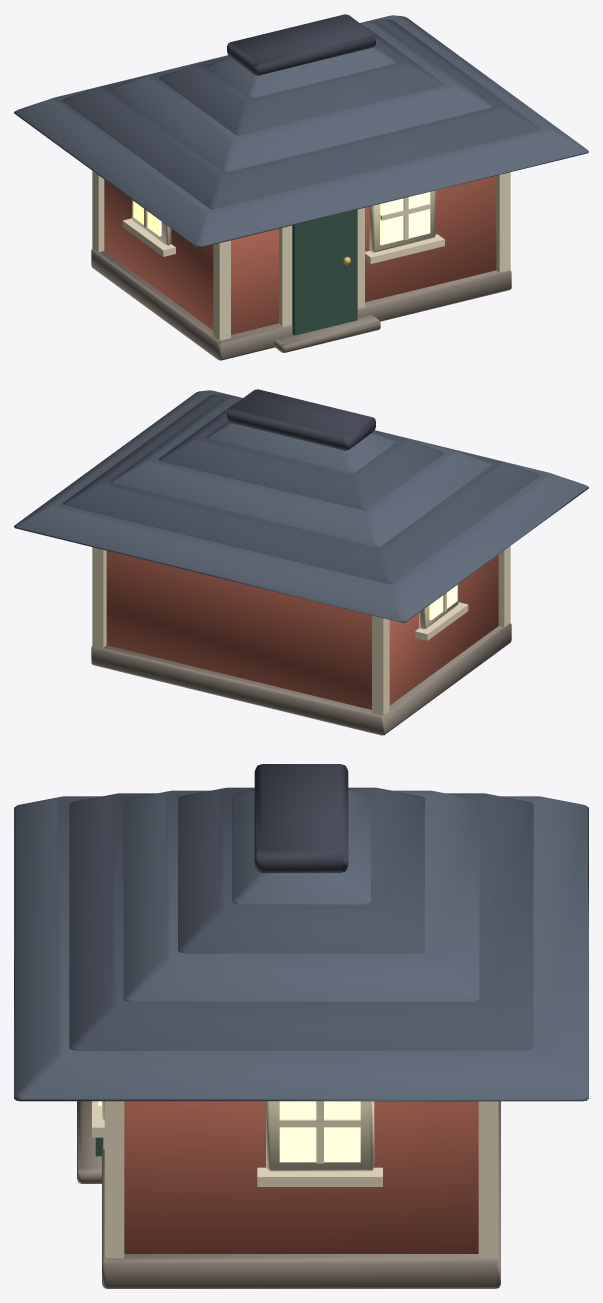
Rendered from v_rowhouse.glb.
The picture shows the model from 3 angles, top to bottom: view 1: azimuth 30°, elevation 25°; view 2: azimuth 150°, elevation 25°; view 3: azimuth 270°, elevation 25°; orthographic projection. The views are drawn at different scales.
Parts seen in each view (by area): view 1: Rowhouse; view 2: Rowhouse; view 3: Rowhouse.
Part boxes in pixels (<box>): Rowhouse: <box>14,14,588,360</box>; Rowhouse: <box>14,389,588,735</box>; Rowhouse: <box>14,764,588,1288</box>.
Size of the model in its own units: 5.61 by 3.3 by 4.61.
